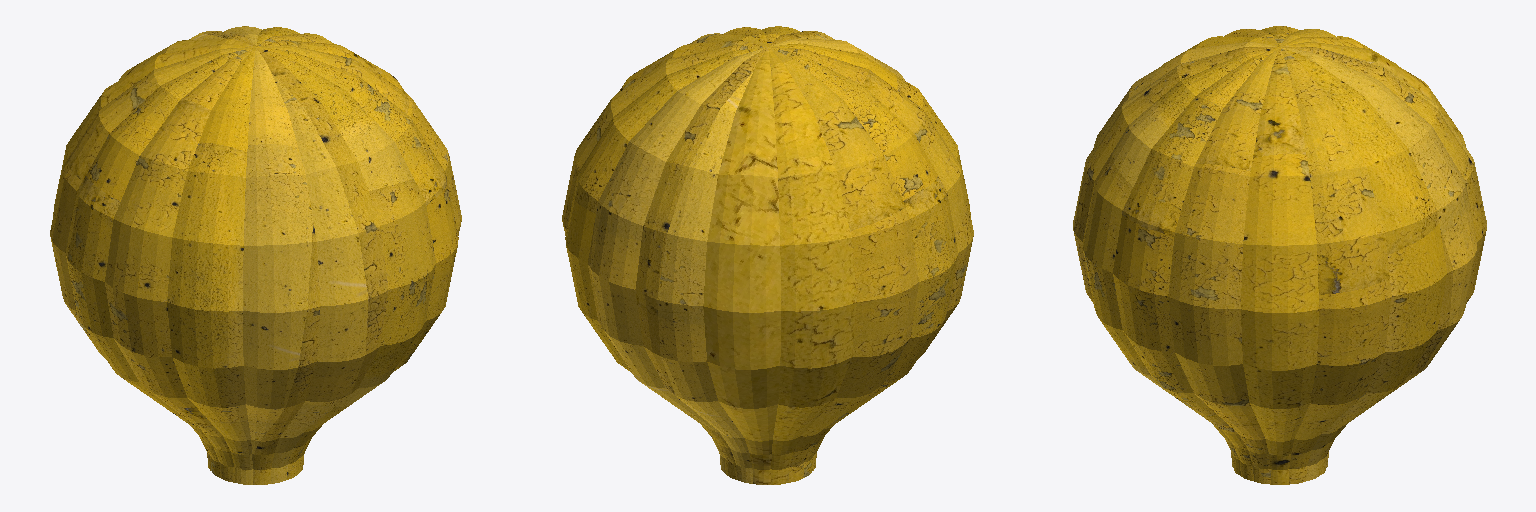
3 views of the same model, side by side, from view 1: azimuth 30°, elevation 25°; view 2: azimuth 150°, elevation 25°; view 3: azimuth 270°, elevation 25° (orthographic).
Parts seen in each view (by area): view 1: Circle.006; view 2: Circle.006; view 3: Circle.006.
Part boxes in pixels (x1,y1,x2,y2): Circle.006: (50,26,461,484); Circle.006: (562,26,973,484); Circle.006: (1073,26,1486,484).
Bounding box in the file's own units: 6.2 × 6.91 × 6.2.
Materials: 1 (1 with a texture image).